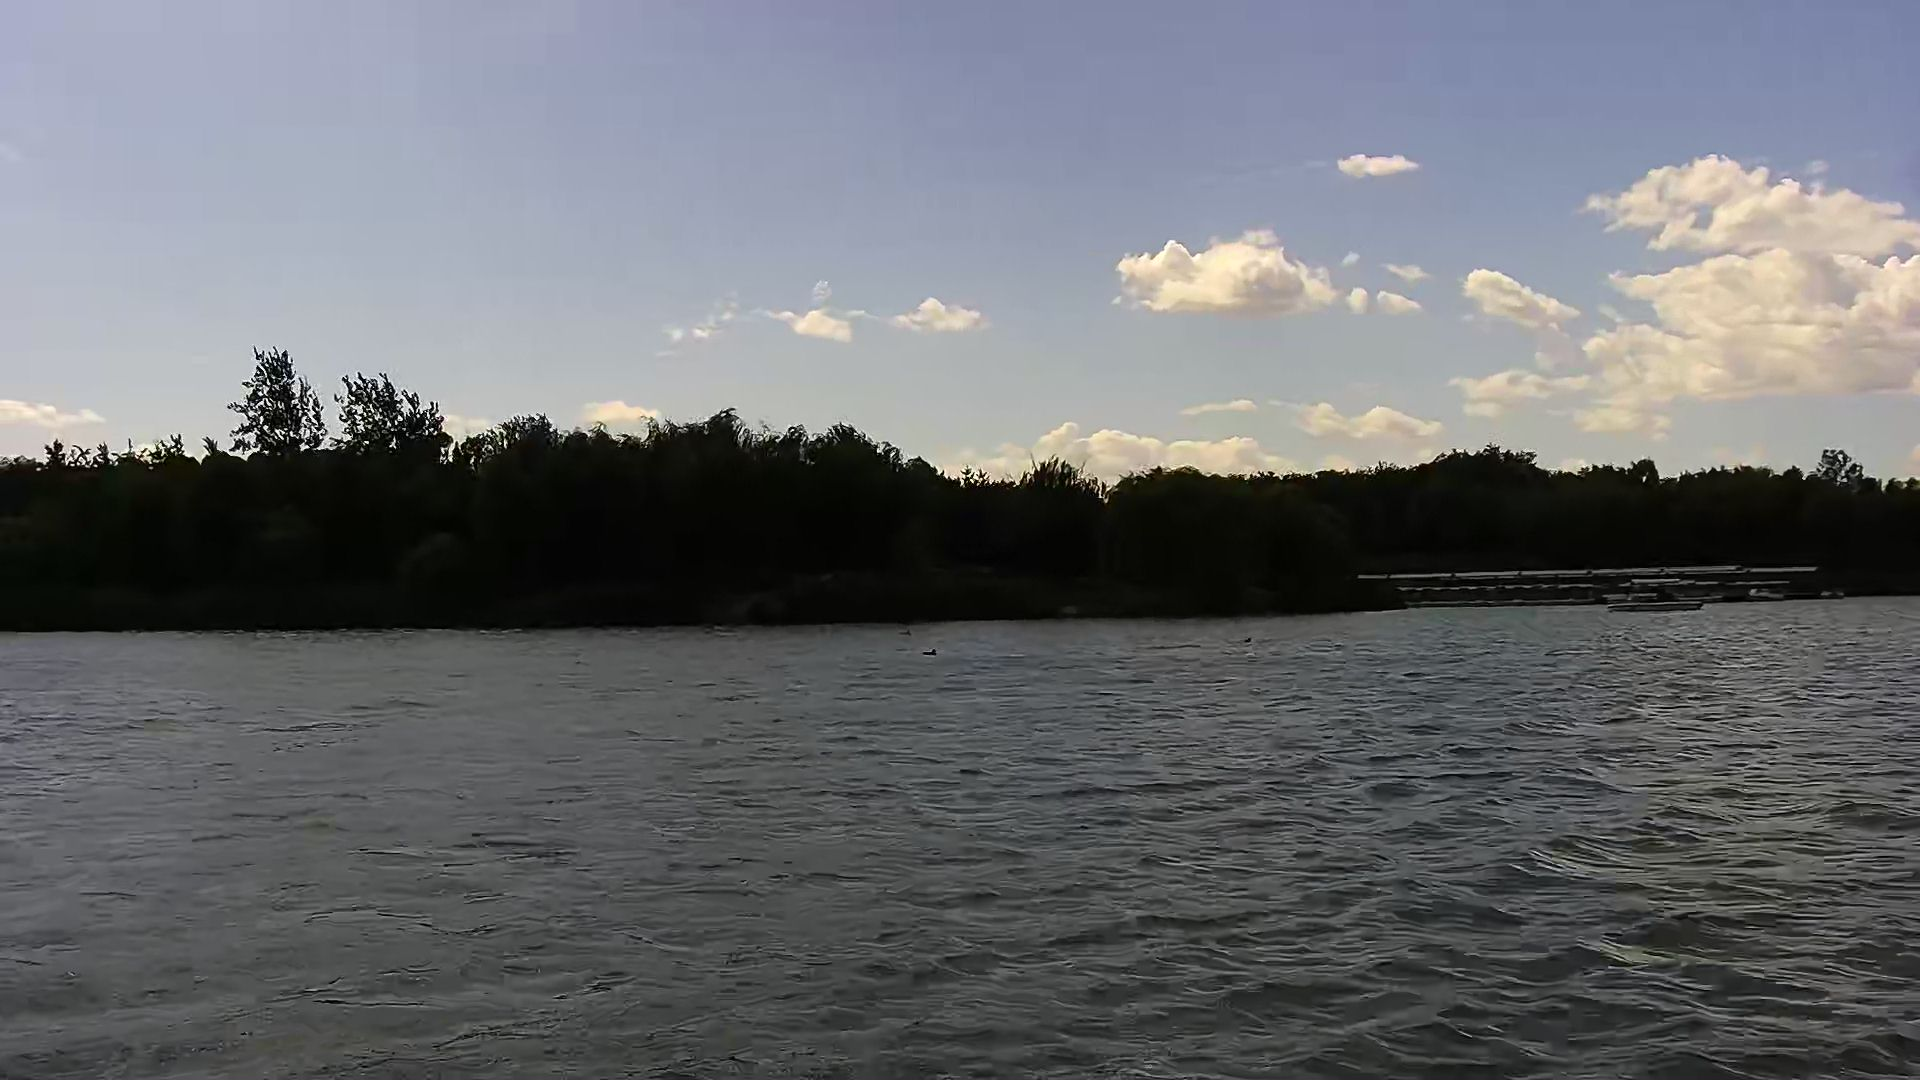boat: (1597, 571, 1709, 613)
harbor: (1349, 568, 1820, 611)
